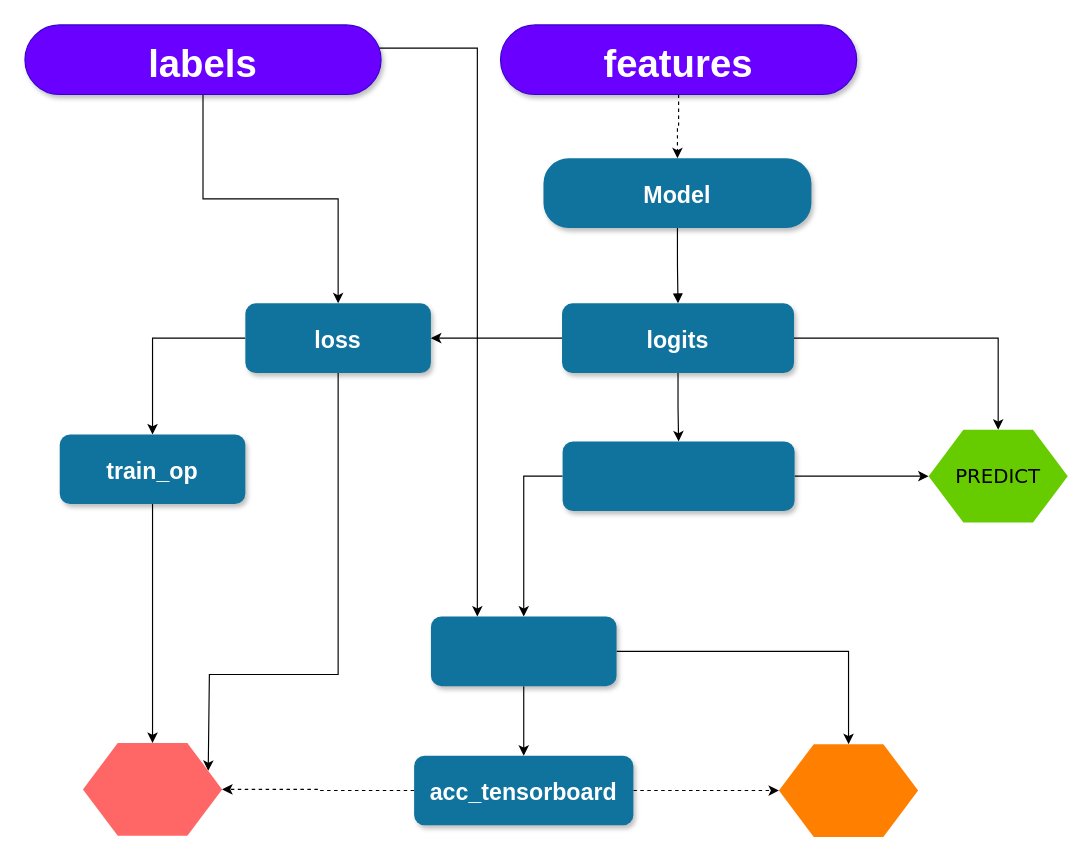
Image size: 1088x857. Some labels were removed from this diagram. Each missing label, with the centre of its shape:
"accuracy" goes at (524,652).
"EVAL" goes at (848,790).
"predicted_classes" goes at (679,477).
"TRAIN" goes at (152,788).
